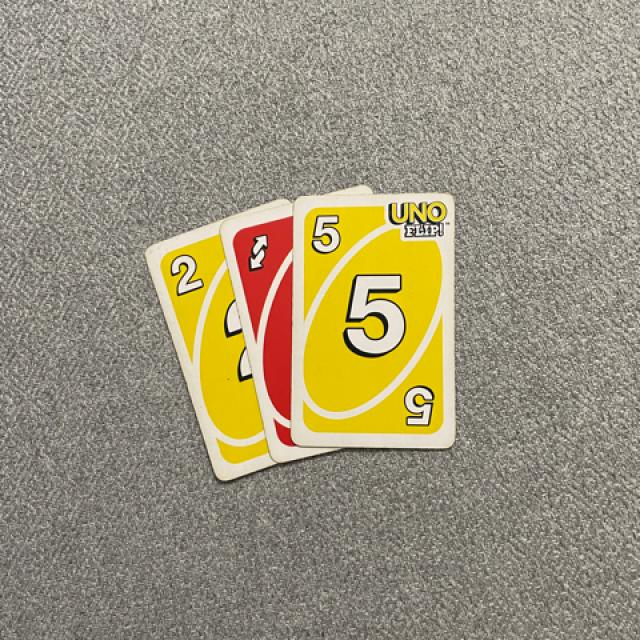lredrevers-20: (238, 225, 279, 279)
lyellow-2: (163, 249, 214, 303)
lyellow-5: (302, 204, 356, 266)
